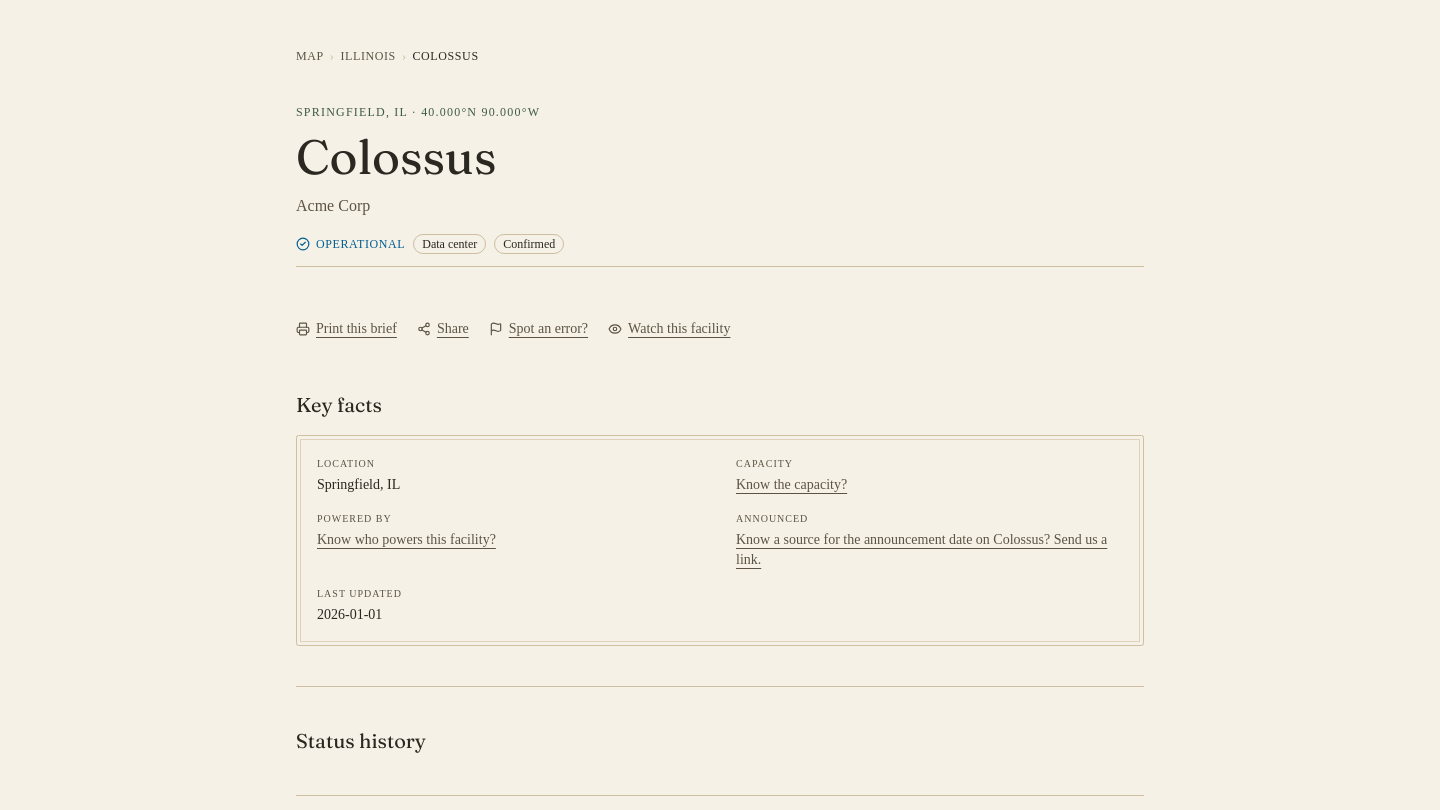
Test: FacilityPage — correction dialogs › gives the 'Spot an error?' dialog the facility's current values
The image size is (1440, 810).
Click the button "Spot an error?" at point(538, 329), box [489,307,588,351]
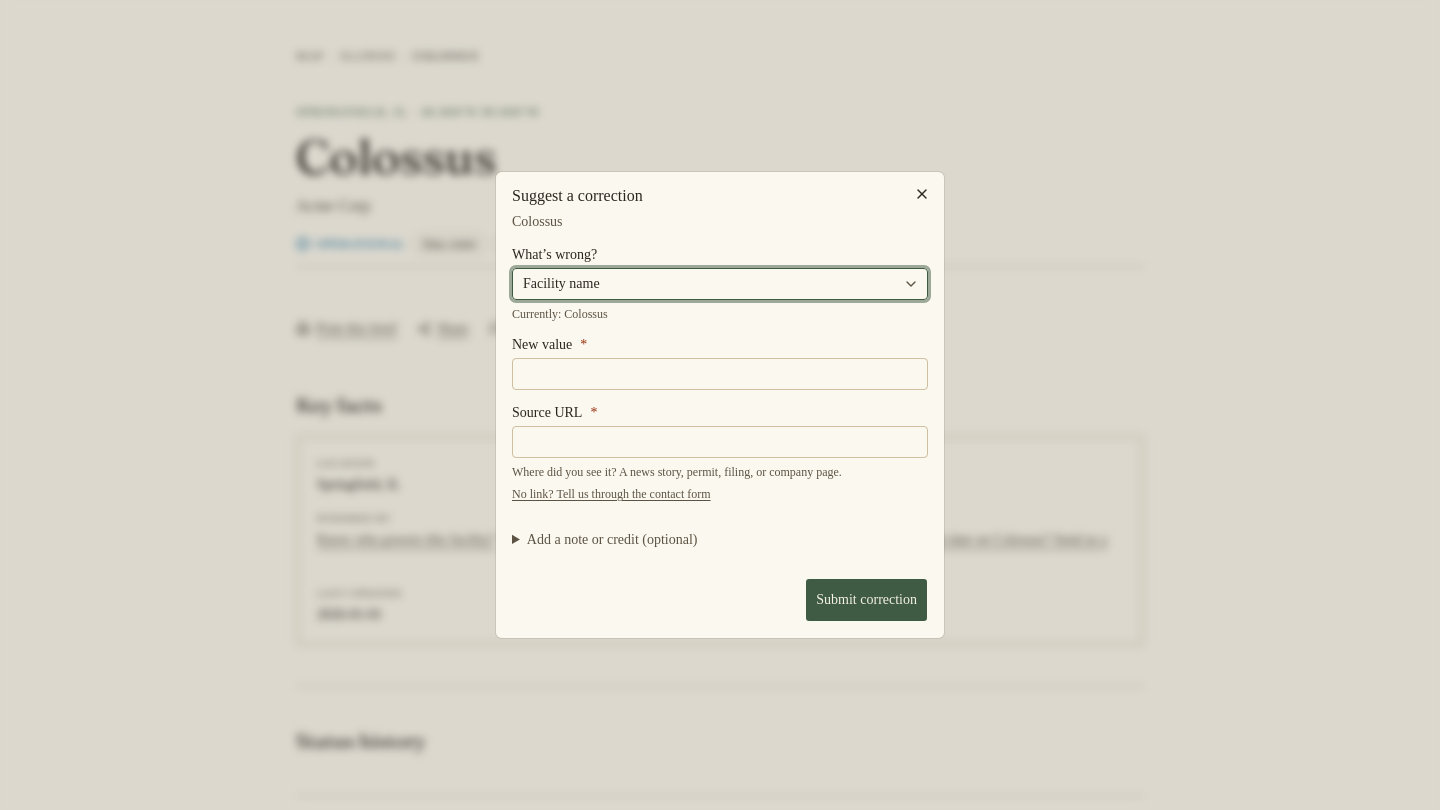
Expected: the text "Currently: Colossus" is shown, [512,307,608,321]
